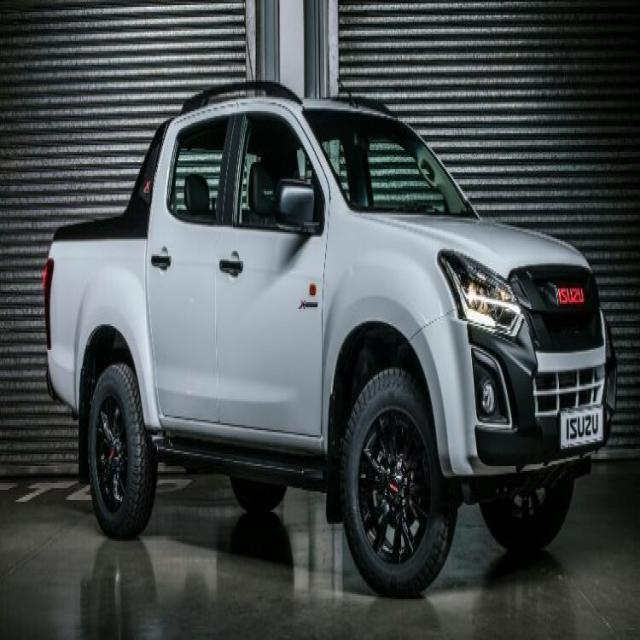Pickup Trucks: (44, 84, 618, 596)
